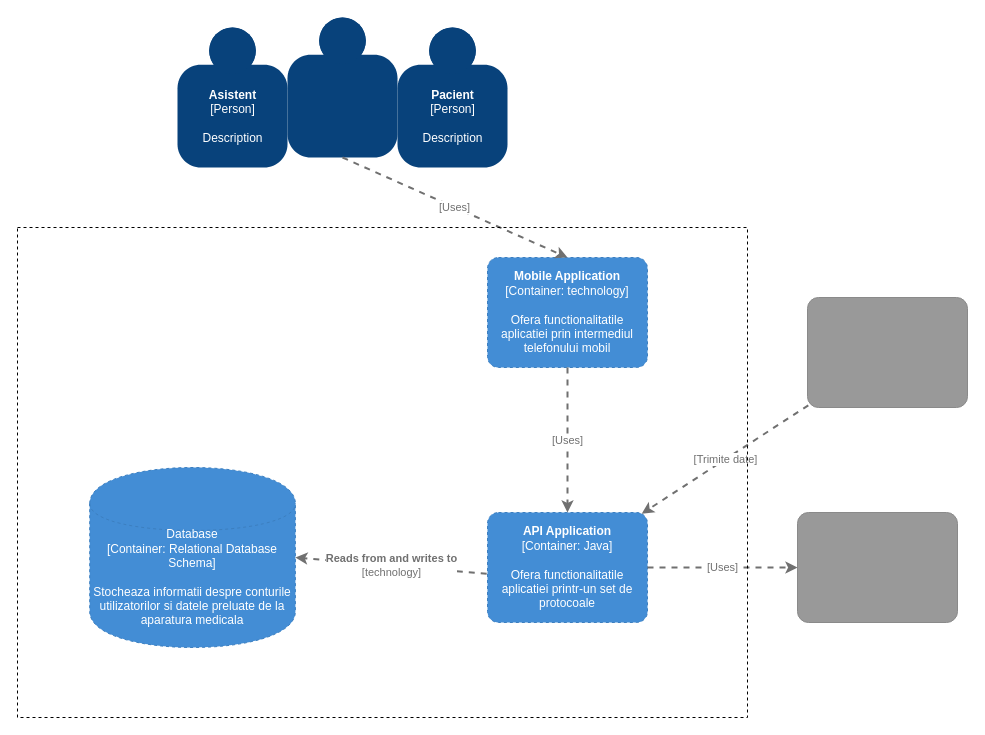
This 985x735 diagram has some shape labels left out. The shapes that lost their labels are listed below. From the top down, each one's box as (x1, y1, x2, y2) in pixels, then its label:
(287, 17, 397, 157): Doctor Doctor [Person] Description
(806, 296, 968, 408): Aparatura medicala [Software System] Description
(796, 512, 958, 622): Mainframe Medical System [Software System]
